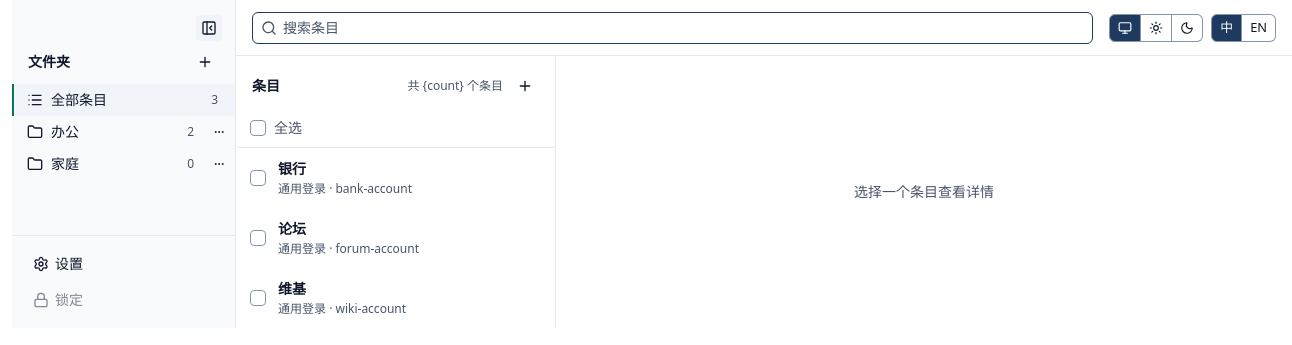
Test case: 批量移入文件夹与加标签 › 勾选条目移入文件夹后侧栏计数即时更新, 列表条目数不变, 勾选清空
Step 1. Click the 3rd checkbox → click(258, 238), box [250,230,266,246]
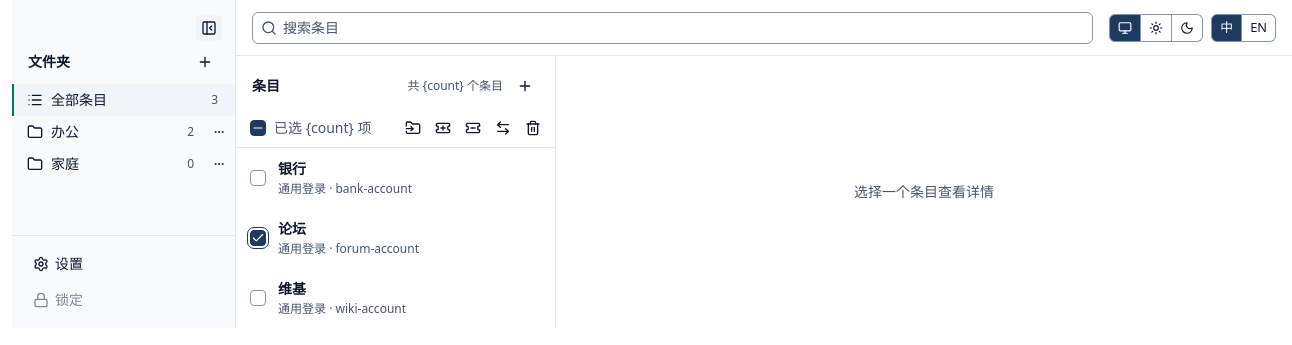
Step 2. Click the 4th checkbox → click(258, 298), box [250,290,266,306]
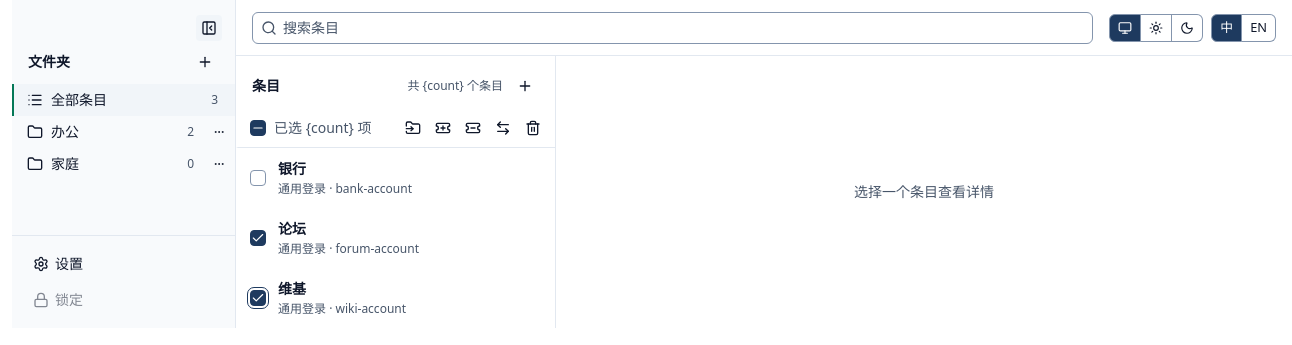
Step 3. Click the button named "移入文件夹" → click(413, 128), box [399,114,427,142]
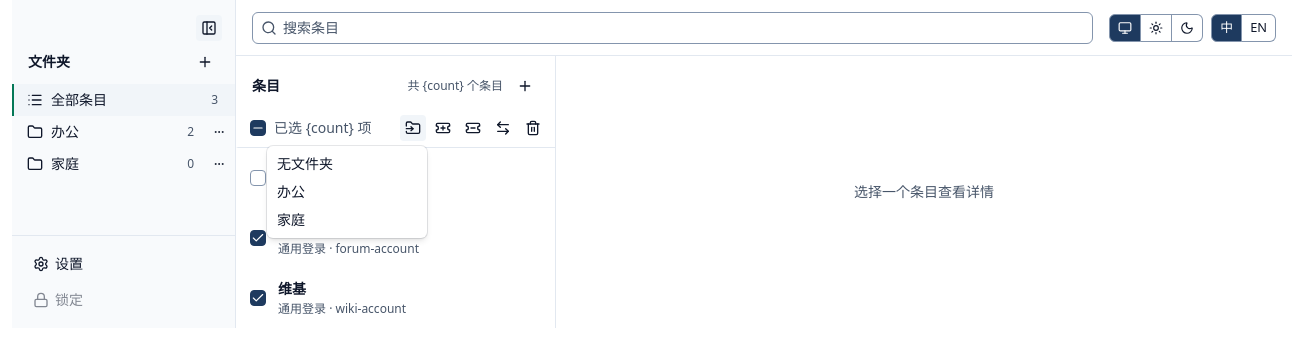
Step 4. Click the menu item "家庭" → click(291, 220), box [277,210,305,229]
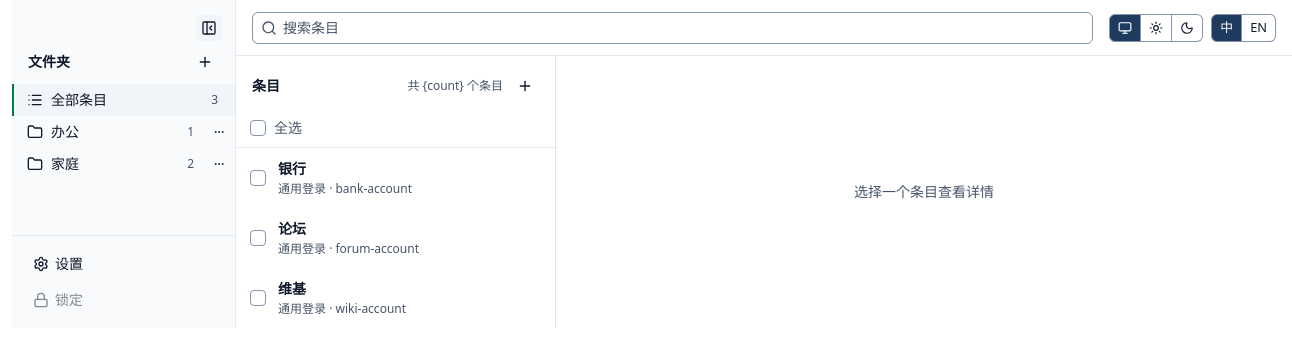
Check: the button "家庭 2" is shown, box [14,148,207,180]
Check: the text "全选" is shown, box [274,118,302,138]
